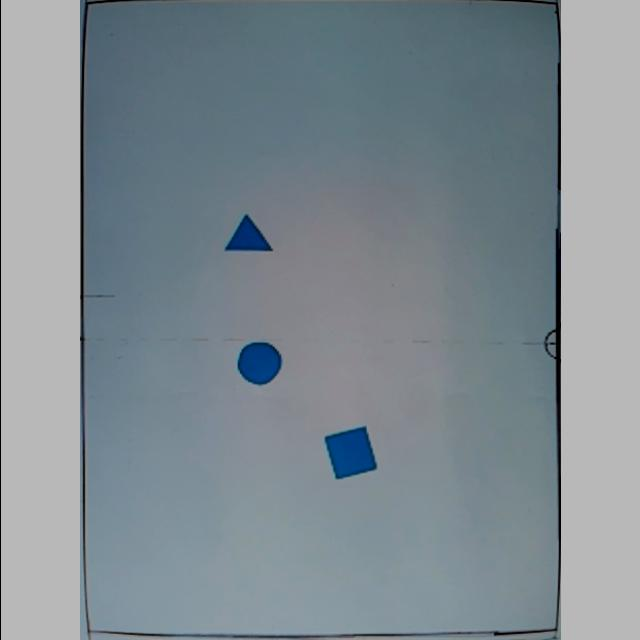blueCircle: (238, 340, 284, 386)
blueSquare: (324, 424, 378, 480)
blueTriangle: (224, 214, 276, 262)
